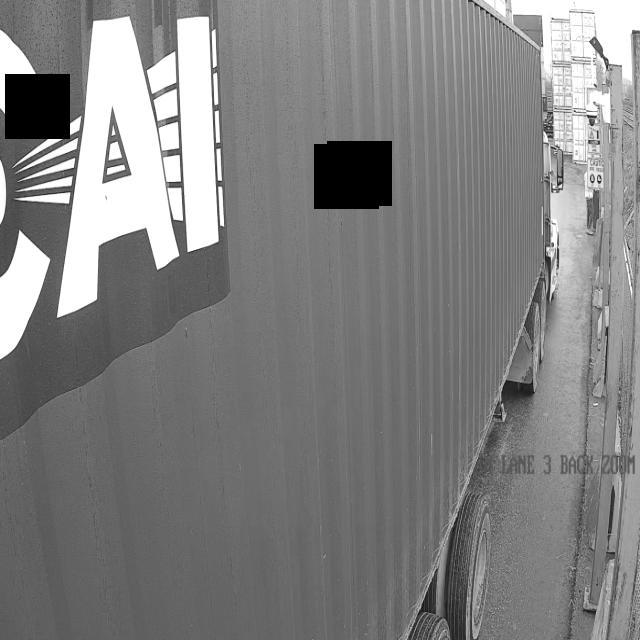container_company_logo: (0, 0, 247, 367), (547, 542, 555, 542)
truck_with_container: (0, 0, 558, 640)
